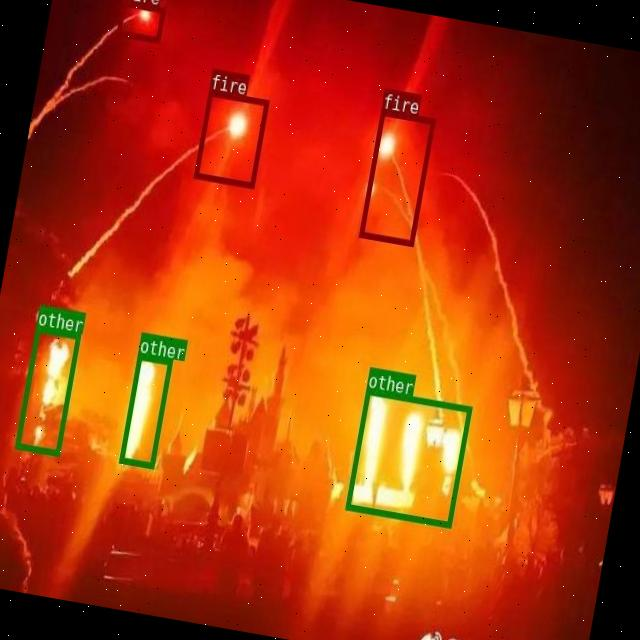fire: (358, 108, 435, 245), (193, 88, 269, 186), (115, 0, 164, 41)
